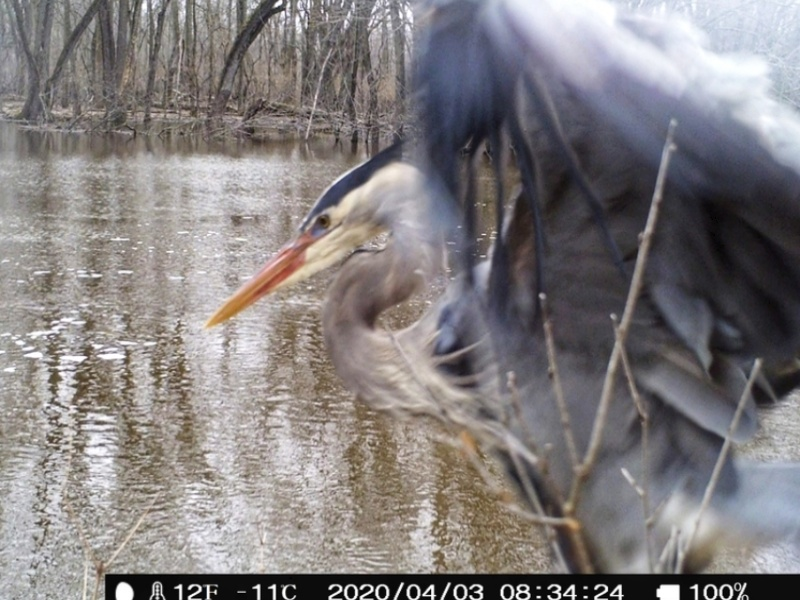heron: (204, 6, 795, 569)
